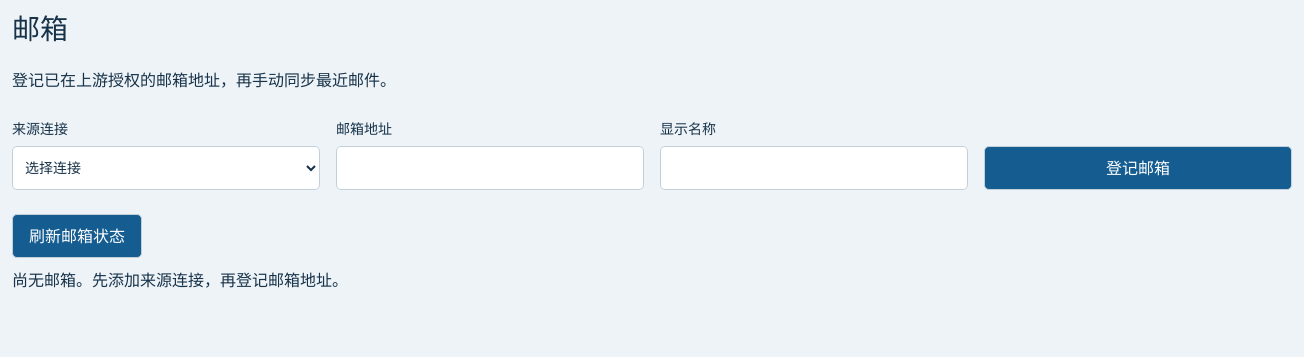
Test case: explains duplicate mailbox registration
The width and height of the screenshot is (1304, 357).
Select "办公" in the dropdown labelled "来源连接" at {"x": 166, "y": 168}, box [12, 146, 320, 190]
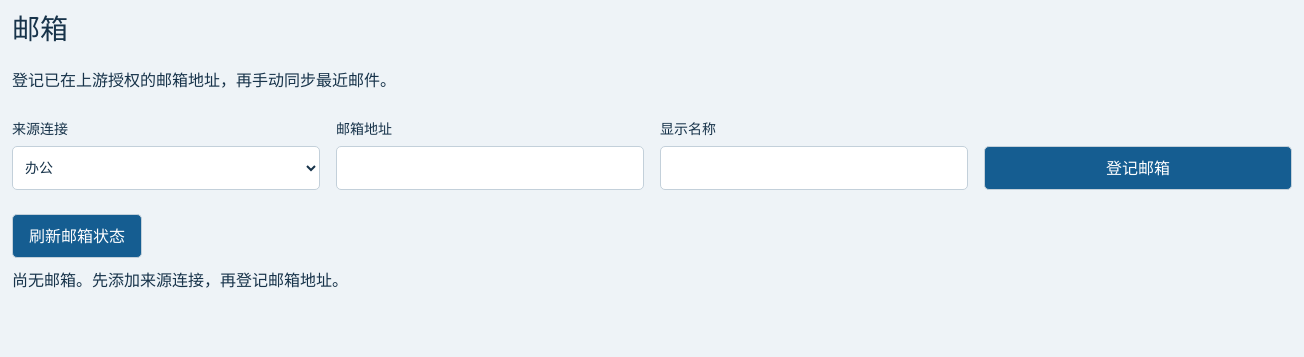
Type "one@example.com" into the field labelled "邮箱地址" at {"x": 490, "y": 168}, box [336, 146, 644, 190]
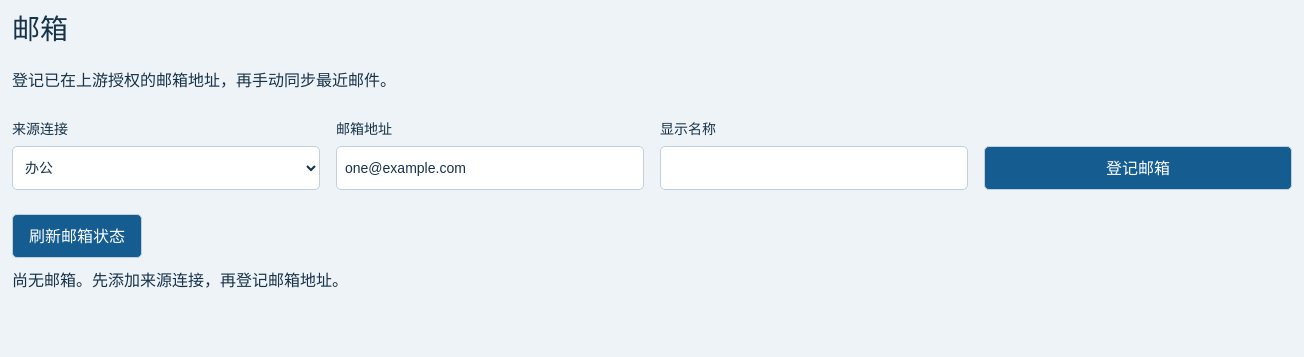
Click the button "登记邮箱" at {"x": 1138, "y": 168}, box [984, 146, 1292, 190]
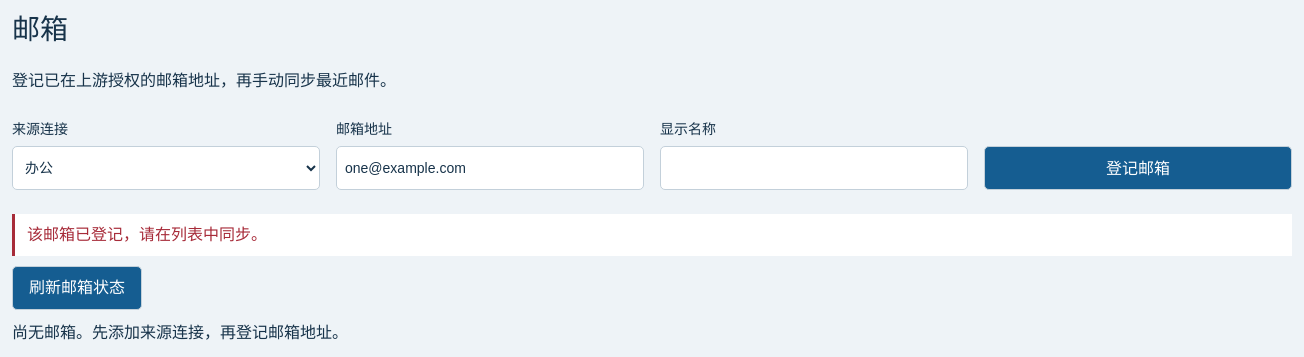
Expected: the message shows "该邮箱已登记", [27, 226, 267, 243]
